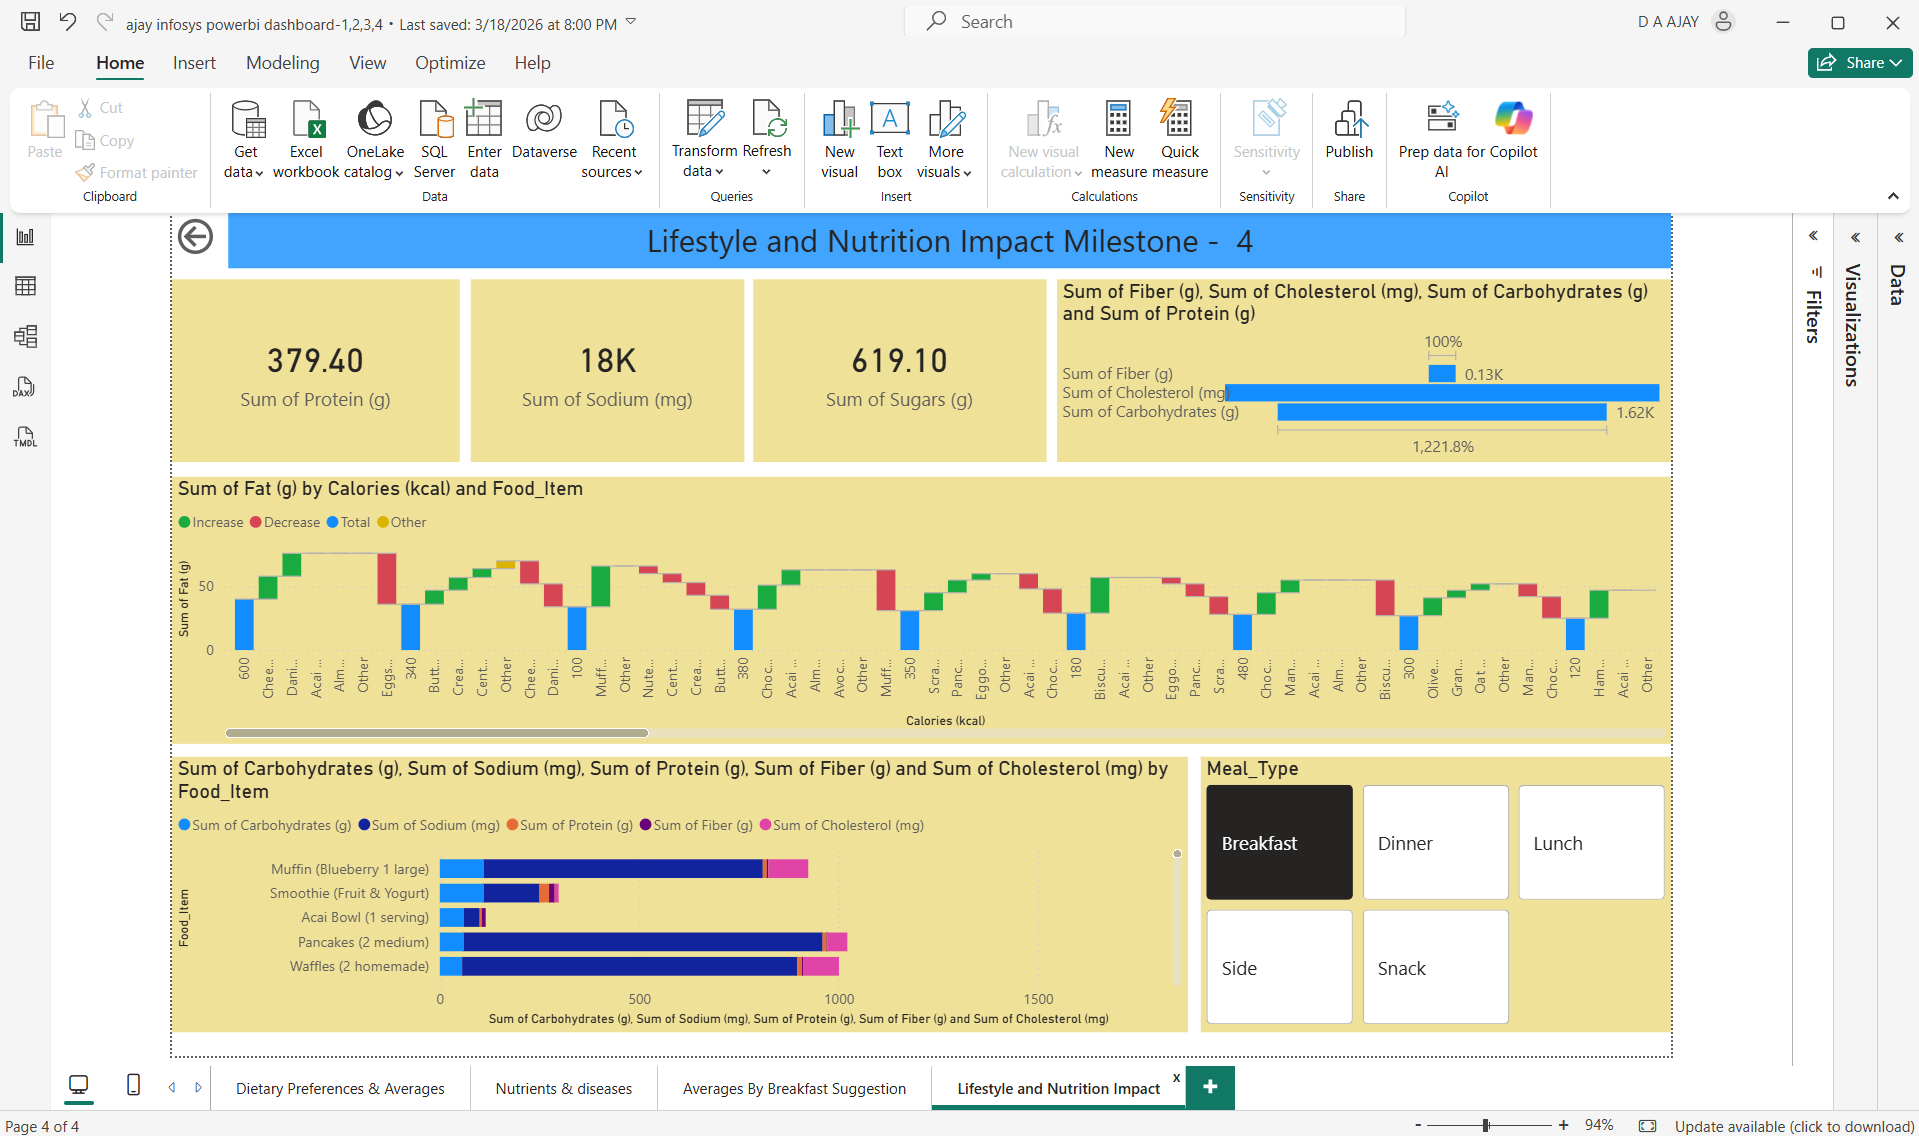

What the dashboard file says about the page in this screenshot:
{"tool":"powerbi","page":{"name":"Lifestyle and Nutrition Impact","canvas":[1280,720],"ordinal":3},"visuals":[{"type":"textbox","box":[48,0,1232.4,46.9],"z":0},{"type":"card","fields":{"Values":["Sum(daily_food_nutrition_dataset (4).Protein (g))"]},"box":[0,57,245.3,155.8],"z":1000},{"type":"card","fields":{"Values":["Sum(daily_food_nutrition_dataset (4).Sodium (mg))"]},"box":[254.7,57,233.7,155.8],"z":2000},{"type":"card","fields":{"Values":["Sum(daily_food_nutrition_dataset (4).Sugars (g))"]},"box":[496.5,57,250,155.8],"z":3000},{"type":"waterfallChart","fields":{"Category":["daily_food_nutrition_dataset (4).Calories (kcal)"],"Breakdown":["daily_food_nutrition_dataset (4).Food_Item"],"Y":["Sum(daily_food_nutrition_dataset (4).Fat (g))"]},"box":[0,225.6,1280.2,227.9],"z":4000},{"type":"funnel","fields":{"Y":["Sum(daily_food_nutrition_dataset (4).Fiber (g))","Sum(daily_food_nutrition_dataset (4).Cholesterol (mg))","Sum(daily_food_nutrition_dataset (4).Carbohydrates (g))"]},"box":[755.8,57,524.4,155.8],"z":5000},{"type":"advancedSlicerVisual","fields":{"Values":["daily_food_nutrition_dataset (4).Meal_Type"]},"box":[877.9,464,402.3,234.9],"z":6000},{"type":"barChart","fields":{"Y":["Sum(daily_food_nutrition_dataset (4).Carbohydrates (g))","Sum(daily_food_nutrition_dataset (4).Sodium (mg))","Sum(daily_food_nutrition_dataset (4).Protein (g))","Sum(daily_food_nutrition_dataset (4).Fiber (g))","Sum(daily_food_nutrition_dataset (4).Cholesterol (mg))"],"Category":["daily_food_nutrition_dataset (4).Food_Item"]},"box":[0,464,867.4,234.9],"z":7000},{"type":"actionButton","box":[0,0,100,40],"z":8000}]}

Visuals, with their boxes on the page's 1280x720 design canvas (x1, y1, x2, y2). These are canvas units, not pixel positions in the 1919x1136 screenshot, which may show the page scaled, cropped or inside an application window:
textbox: {"x1": 48, "y1": 0, "x2": 1280, "y2": 47}
card - Sum(daily_food_nutrition_dataset (4).Protein (g)): {"x1": 0, "y1": 57, "x2": 245, "y2": 213}
card - Sum(daily_food_nutrition_dataset (4).Sodium (mg)): {"x1": 255, "y1": 57, "x2": 488, "y2": 213}
card - Sum(daily_food_nutrition_dataset (4).Sugars (g)): {"x1": 496, "y1": 57, "x2": 746, "y2": 213}
waterfallChart - daily_food_nutrition_dataset (4).Calories (kcal) x daily_food_nutrition_dataset (4).Food_Item: {"x1": 0, "y1": 226, "x2": 1280, "y2": 454}
funnel - Sum(daily_food_nutrition_dataset (4).Fiber (g)) x Sum(daily_food_nutrition_dataset (4).Cholesterol (mg)): {"x1": 756, "y1": 57, "x2": 1280, "y2": 213}
advancedSlicerVisual - daily_food_nutrition_dataset (4).Meal_Type: {"x1": 878, "y1": 464, "x2": 1280, "y2": 699}
barChart - Sum(daily_food_nutrition_dataset (4).Carbohydrates (g)) x Sum(daily_food_nutrition_dataset (4).Sodium (mg)): {"x1": 0, "y1": 464, "x2": 867, "y2": 699}
actionButton: {"x1": 0, "y1": 0, "x2": 100, "y2": 40}
